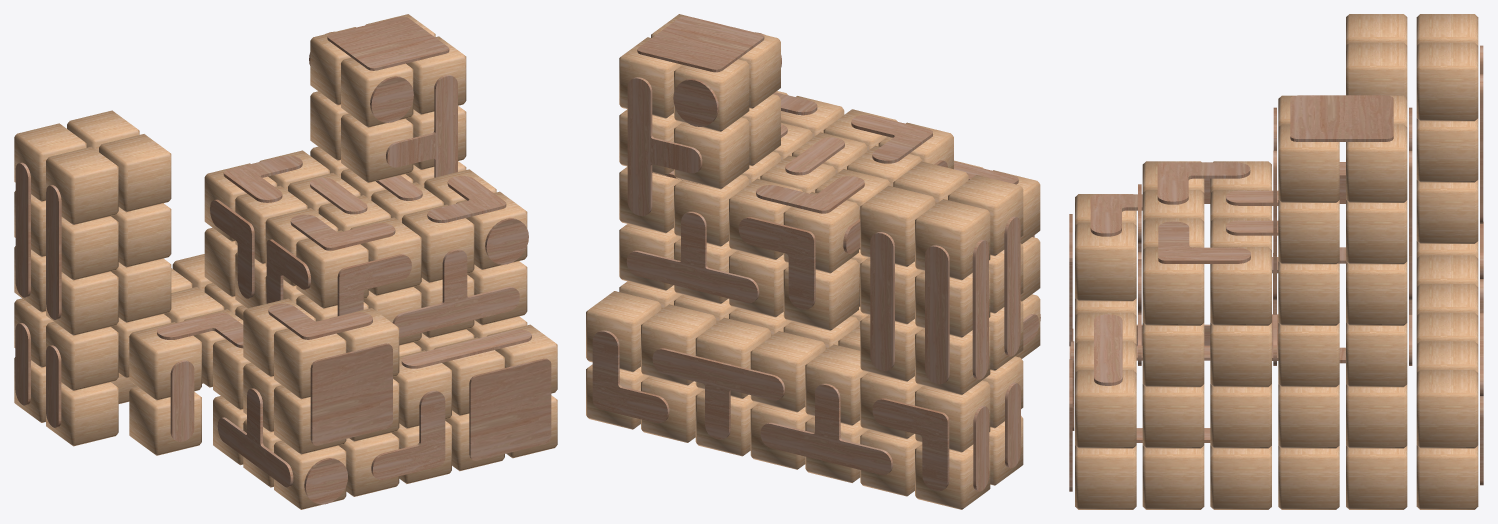
Rendered from level_88.fbx.
The picture shows the model from 3 angles, left to right: view 1: azimuth 30°, elevation 25°; view 2: azimuth 150°, elevation 25°; view 3: azimuth 270°, elevation 25°; orthographic projection. The views are drawn at different scales.
Visible parts, largest first — view 1: obj_obs_square.001, obj_obs_square.002, Cube.122, obj_obs_T.004, obj_obs_square.003, Cube.120, Cube.125, Cube.109, obj_obs_T, Cube.096, Cube.108, Cube.116 (+77 smaller); view 2: obj_obs_T.001, obj_obs_T.006, obj_obs_T.005, obj_obs_T.002, obj_obs_square.003, Cube.123, Cube.098, Cube.121, obj_obs_L.011, obj_obs_L.004, obj_obs_L.001, Cube.059 (+64 smaller); view 3: Cube.121, Cube.060, obj_obs_square.003, Cube.065, Cube.019, Cube.090, Cube.083, Cube.103, Cube.101, Cube.115, Cube.009, Cube.055 (+46 smaller).
Part boxes in pixels (x1,y1,x2,y2): obj_obs_square.001: (469, 358, 551, 460); obj_obs_square.002: (310, 343, 392, 445); Cube.122: (46, 146, 118, 224); obj_obs_T.004: (392, 249, 519, 337); obj_obs_square.003: (327, 16, 449, 70); Cube.120: (99, 134, 171, 212); Cube.125: (129, 322, 201, 400); Cube.109: (46, 321, 118, 390); obj_obs_T: (386, 74, 457, 177); Cube.096: (341, 113, 413, 182); Cube.108: (46, 382, 118, 446); Cube.116: (46, 271, 118, 335); obj_obs_T.001: (627, 77, 702, 216); obj_obs_T.006: (652, 348, 784, 439); obj_obs_T.005: (760, 383, 892, 475); obj_obs_T.002: (626, 211, 759, 303); obj_obs_square.003: (637, 16, 764, 72); Cube.123: (915, 199, 990, 280); Cube.098: (674, 117, 749, 189); Cube.121: (860, 185, 935, 266); obj_obs_L.011: (872, 398, 949, 491); obj_obs_L.004: (592, 330, 669, 423); obj_obs_L.001: (738, 217, 815, 309); Cube.059: (750, 331, 825, 412); Cube.121: (1416, 42, 1478, 121); Cube.060: (1416, 370, 1478, 448); obj_obs_square.003: (1290, 95, 1393, 141); Cube.065: (1075, 222, 1136, 301); Cube.019: (1075, 370, 1136, 448); Cube.090: (1210, 247, 1271, 325); Cube.083: (1142, 247, 1204, 325); Cube.103: (1346, 124, 1407, 202); Cube.101: (1278, 124, 1339, 202); Cube.115: (1416, 118, 1478, 182); Cube.009: (1142, 445, 1204, 509); Cube.055: (1416, 445, 1478, 509).
Bounding box in the file's own units: 15.4 × 13.14 × 13.45.
